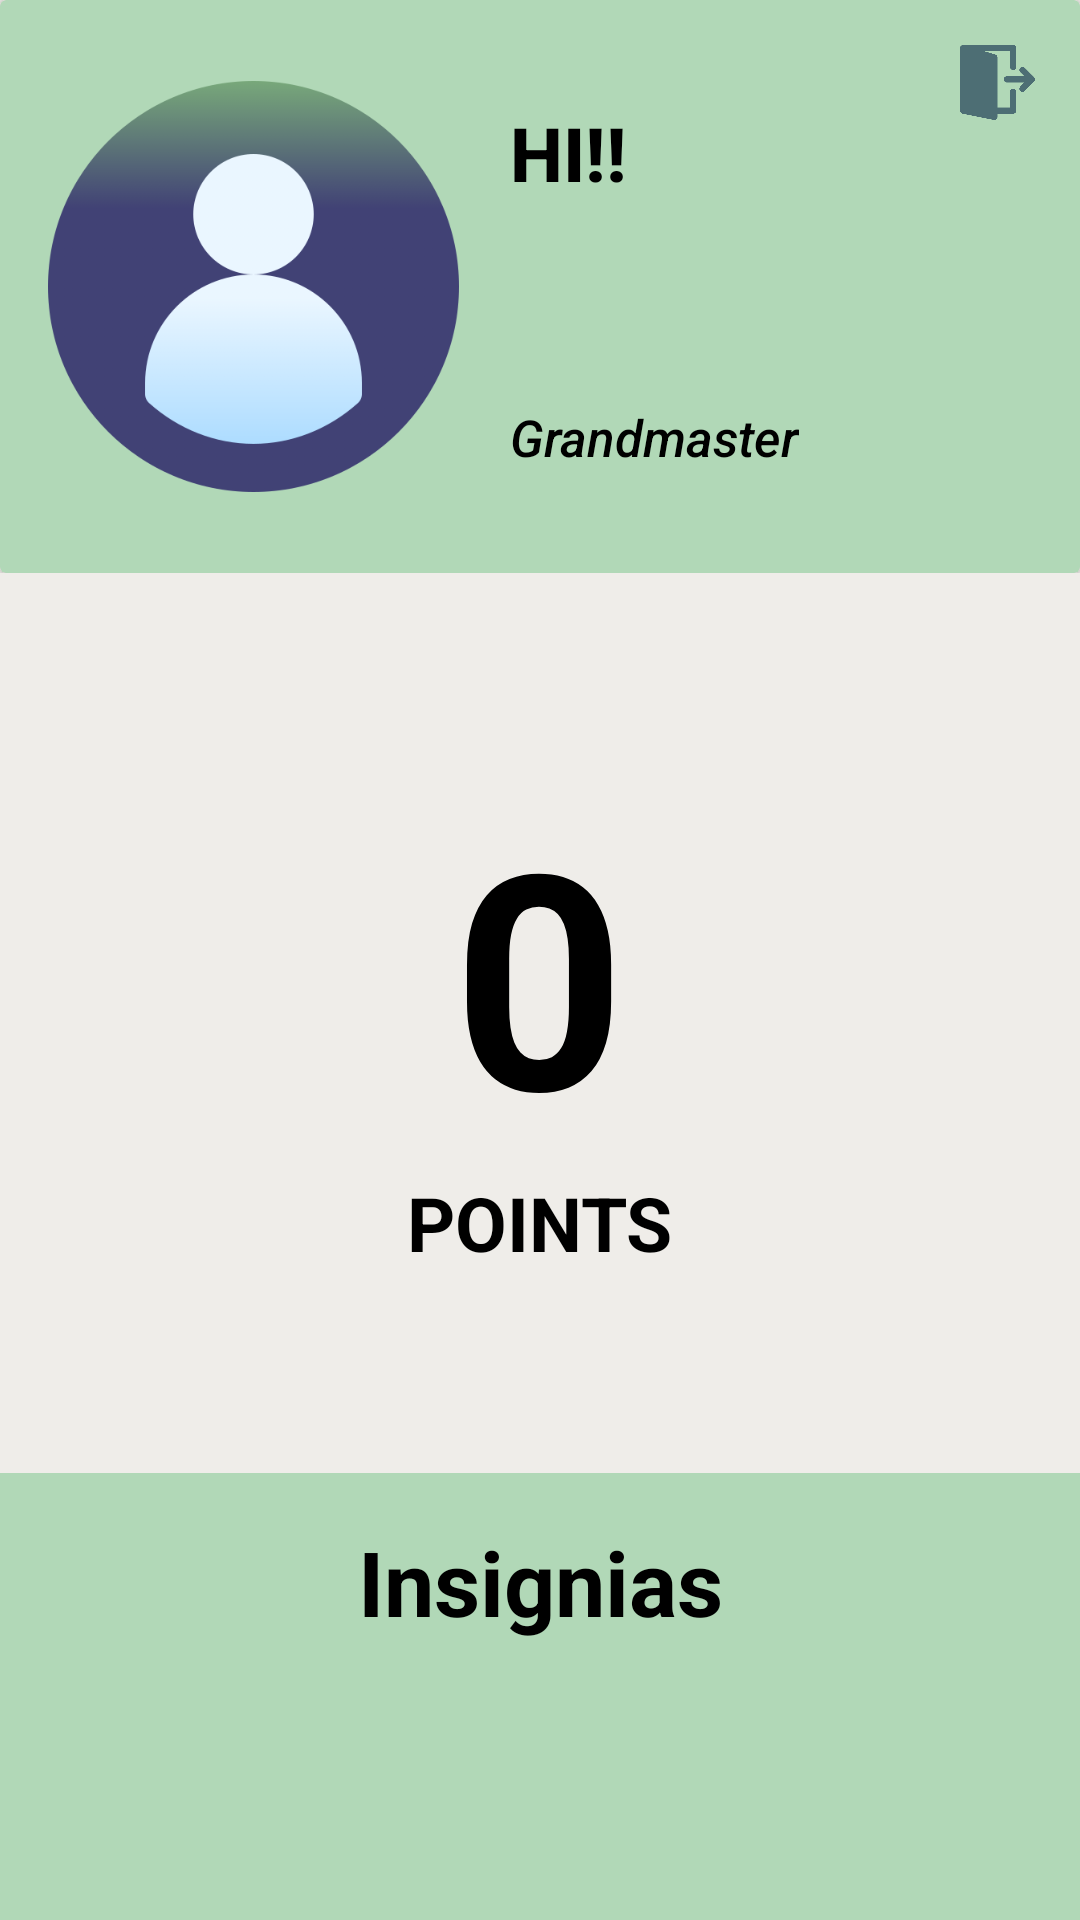

Where to tap for icons on this 1080px x 1920px app screen, as [x,y]:
cerrarsesion: [997,82]
